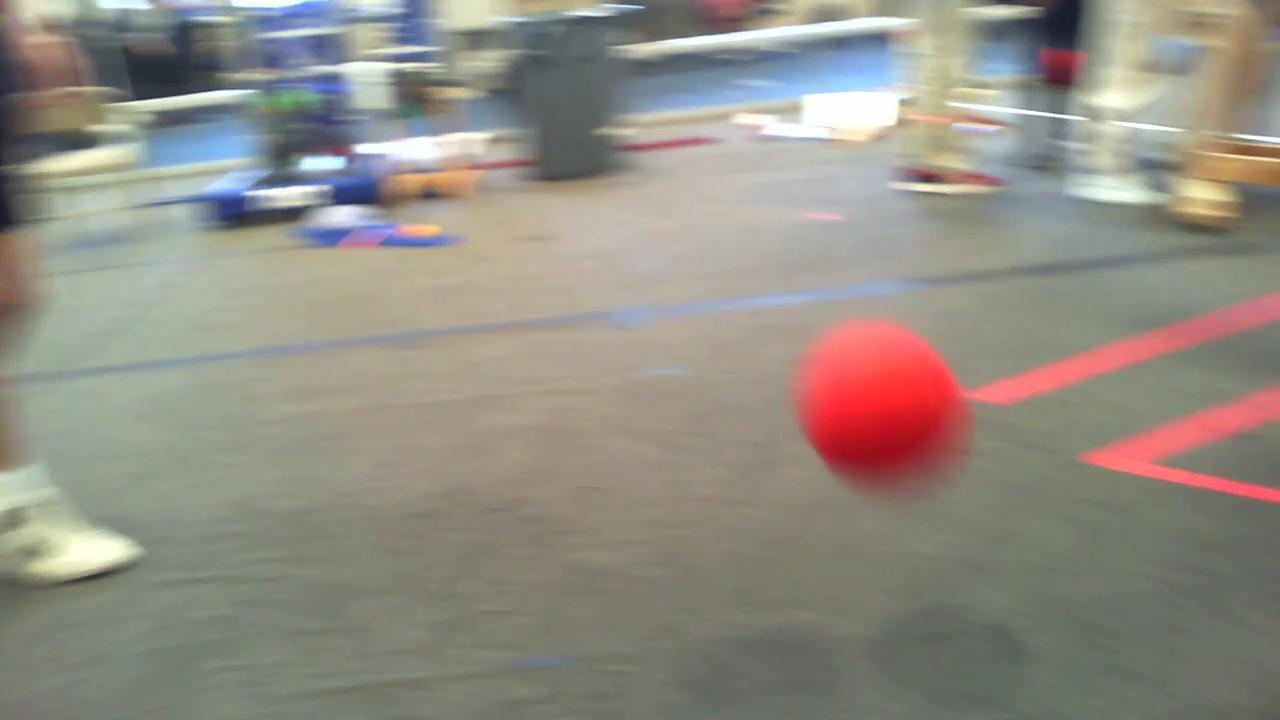Red_Ball: (794, 311, 957, 484)
